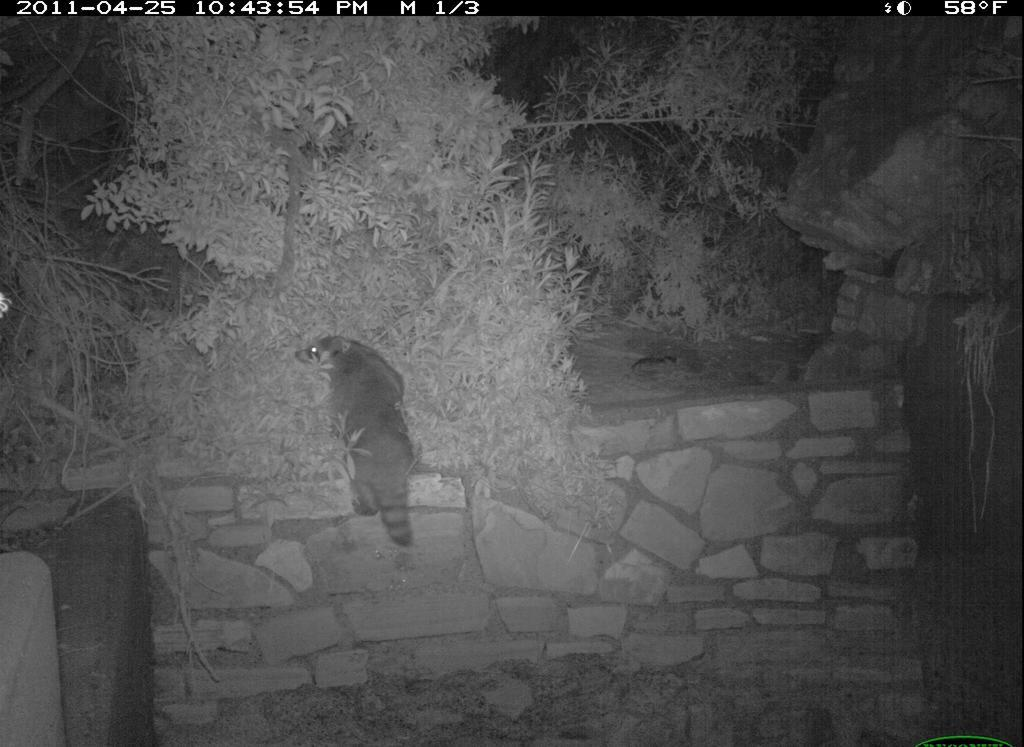raccoon: (297, 329, 472, 555)
